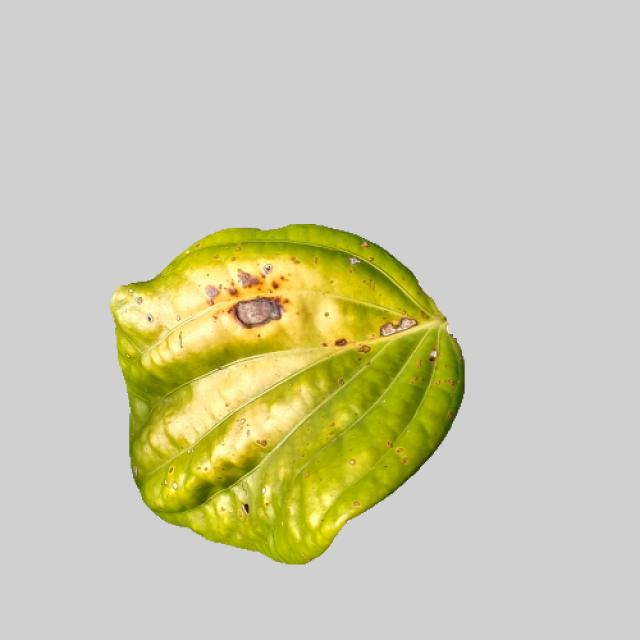leaf-blight: (110, 218, 470, 573)
